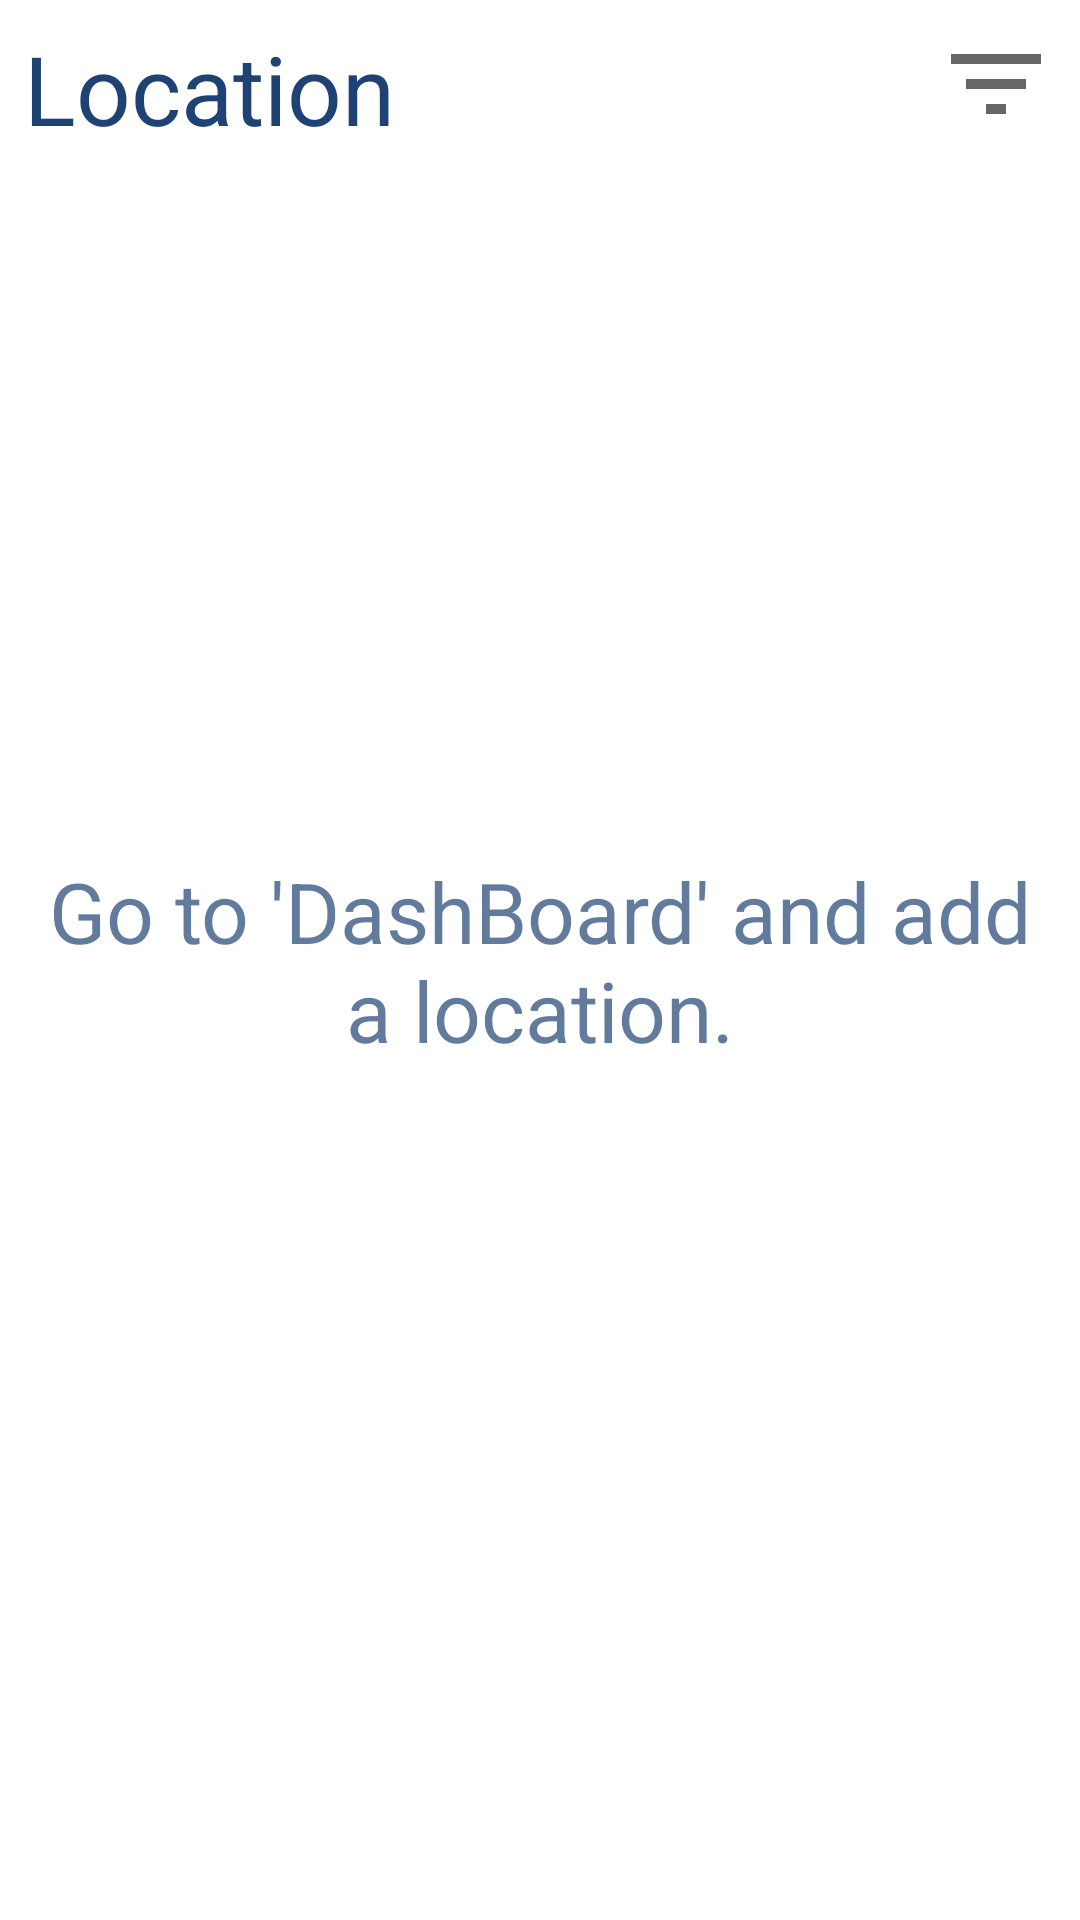

Icons on this 1080x1920 Android screen, each with its box as {"x1": x1, "y1": y1, "x2": x2, "y2": y2}:
filter: {"x1": 951, "y1": 54, "x2": 1041, "y2": 114}
